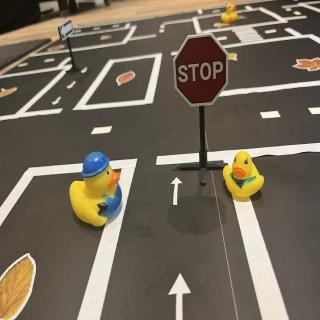duck_regular: (222, 152, 267, 200)
duck_specialty: (69, 151, 124, 230), (221, 5, 239, 25)
road_crosswalk: (231, 25, 269, 47)
road_oneway: (166, 268, 194, 320), (172, 176, 184, 208), (66, 81, 78, 91), (51, 97, 63, 107), (81, 67, 91, 75)
sign_oneway_left: (59, 19, 76, 43)
sign_stop: (175, 34, 229, 106)
